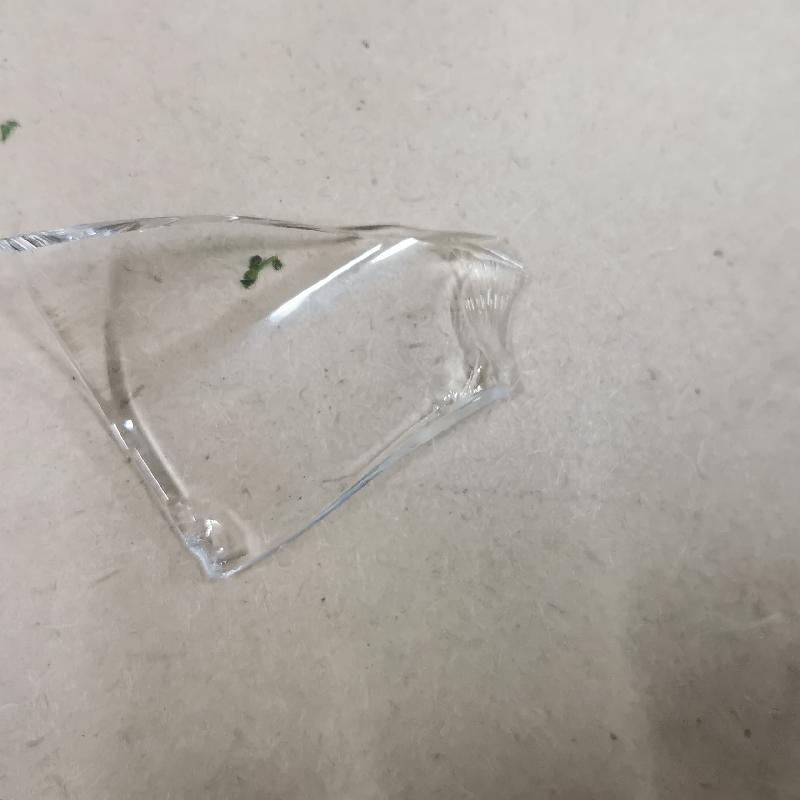glass: (3, 204, 527, 574)
